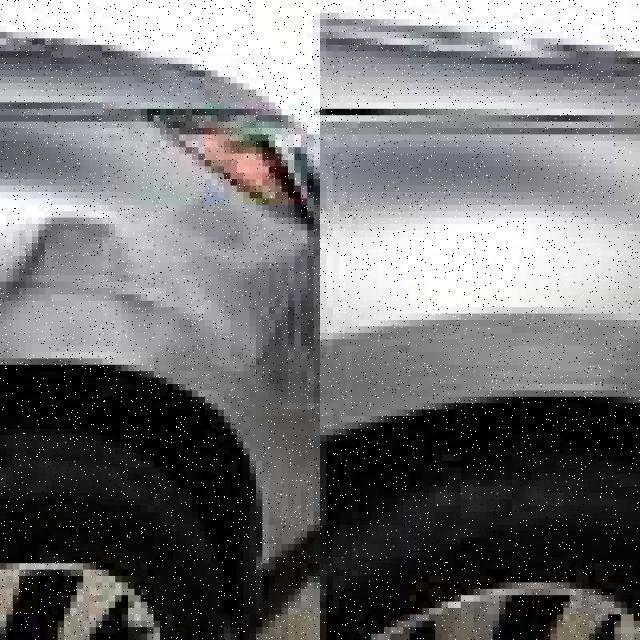fender-dent: (0, 96, 314, 576)
